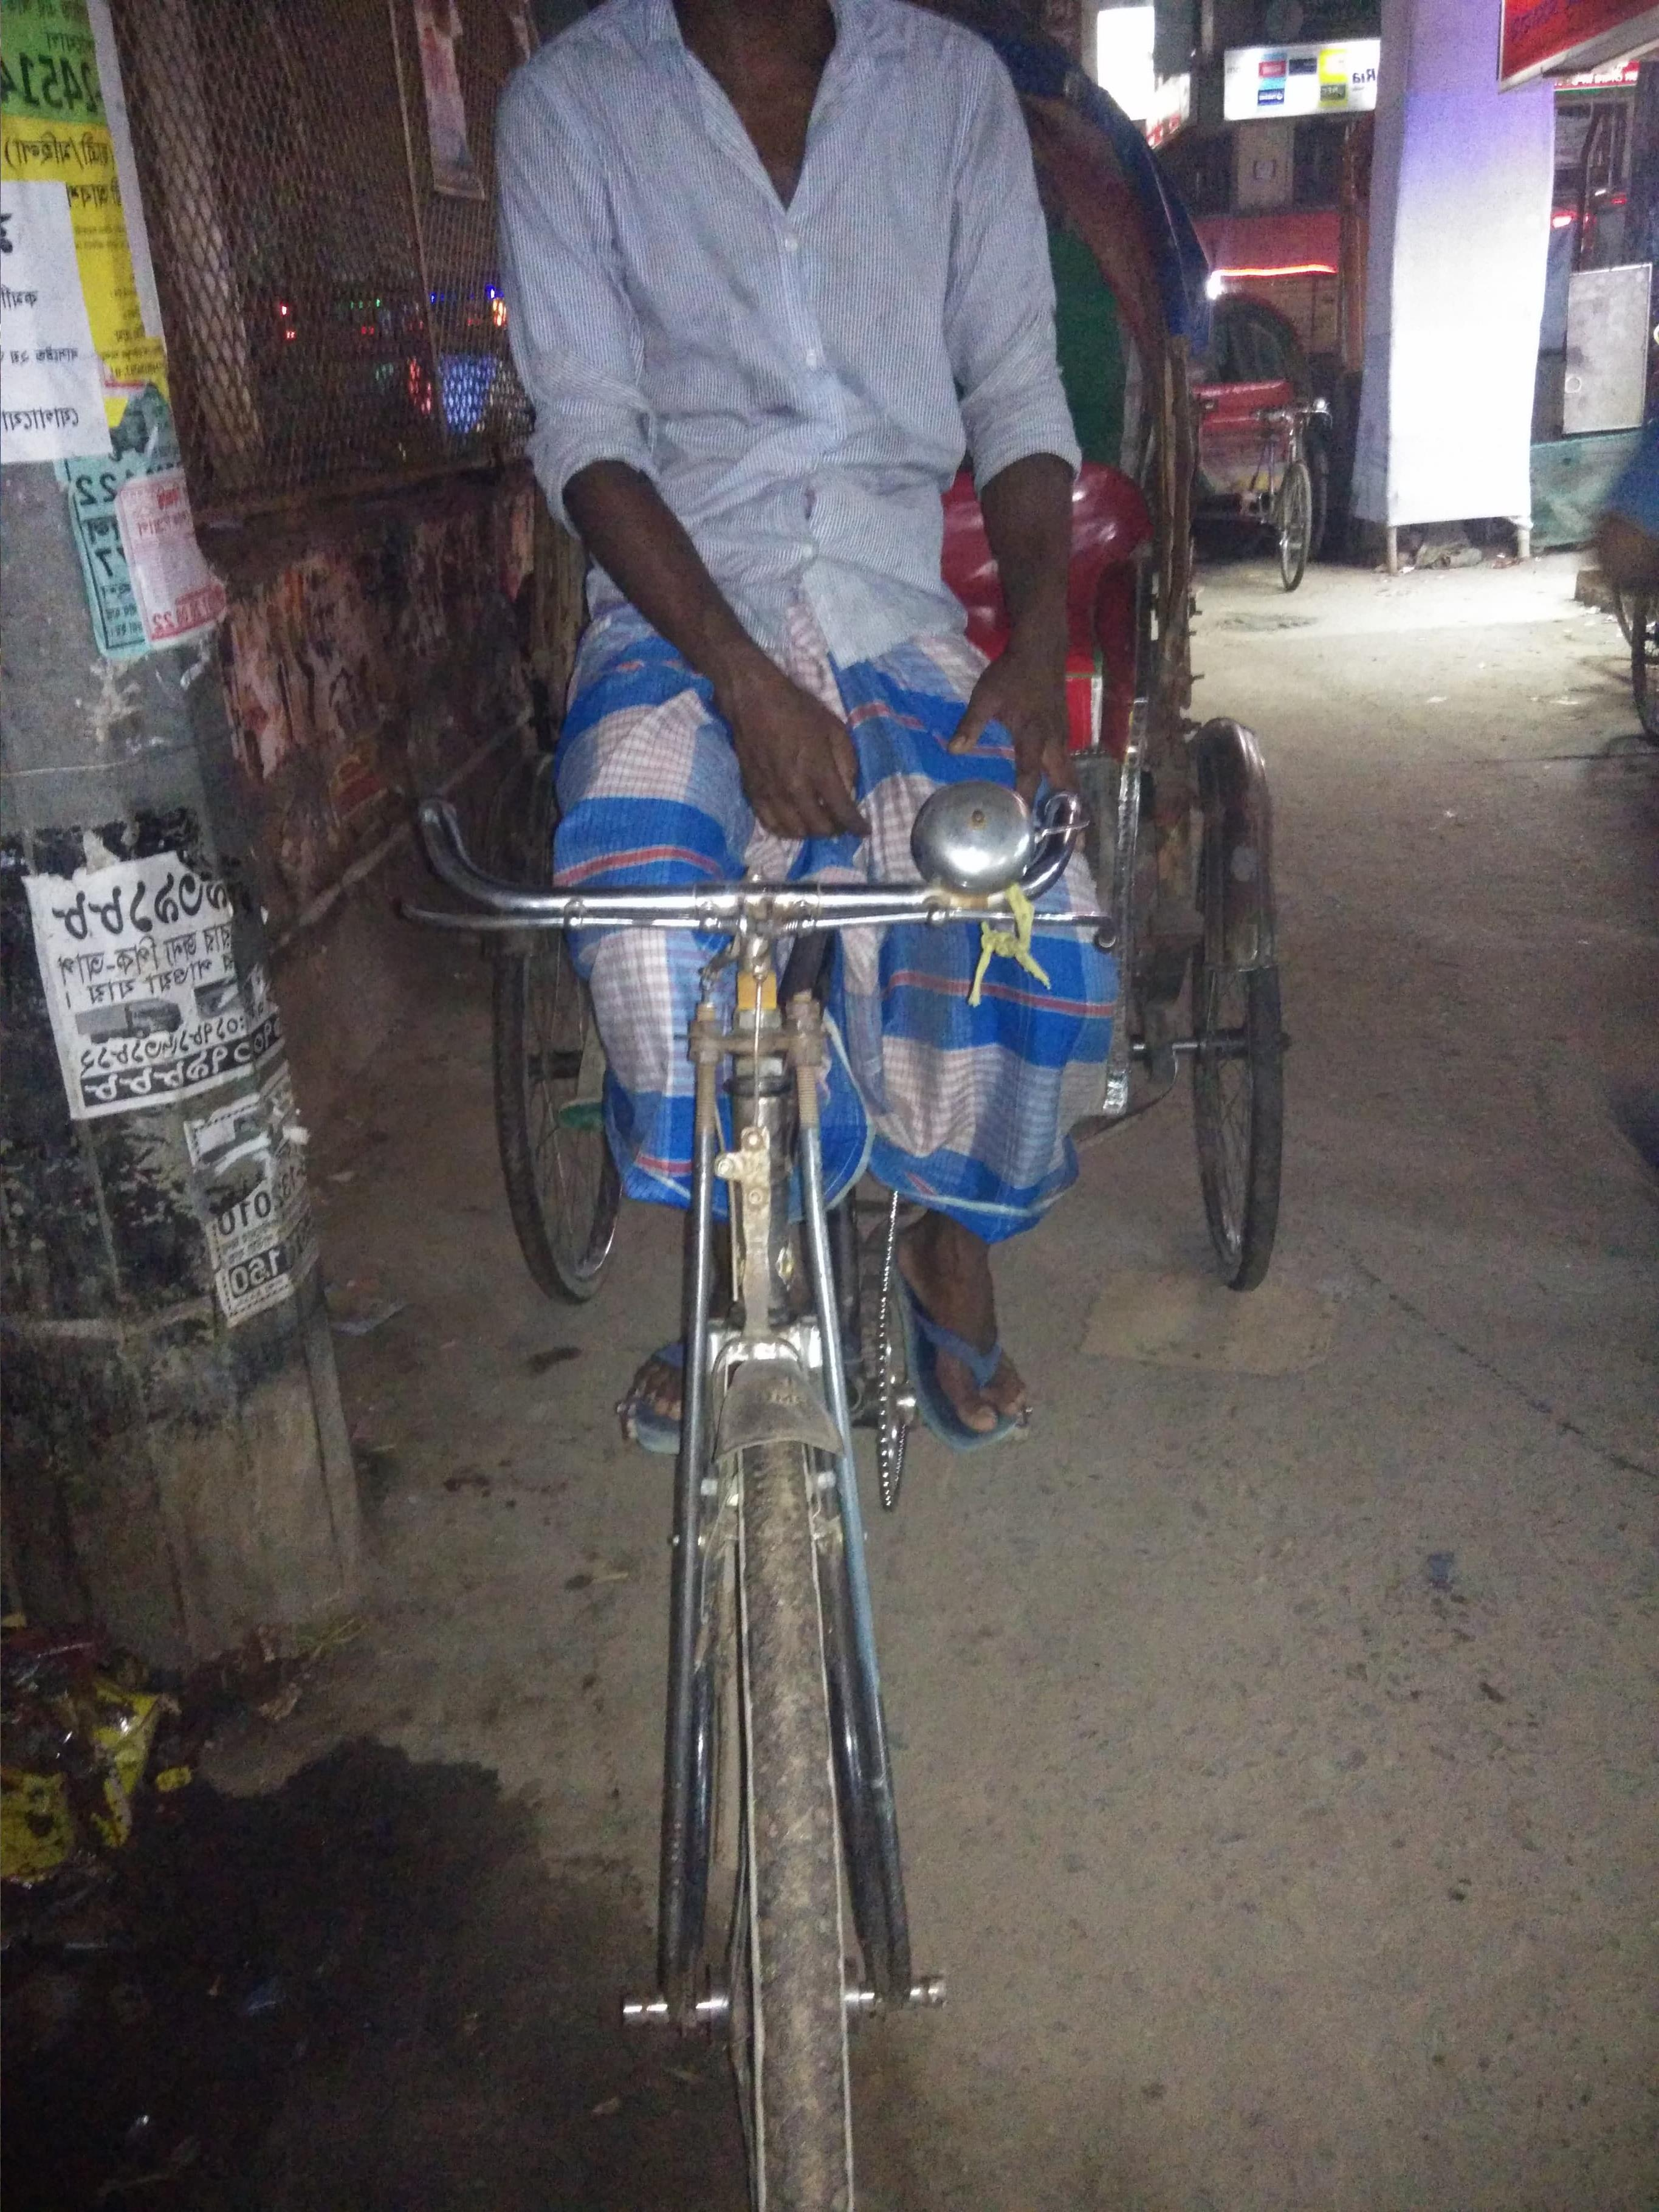Rickshaw: (415, 26, 1293, 2013)
